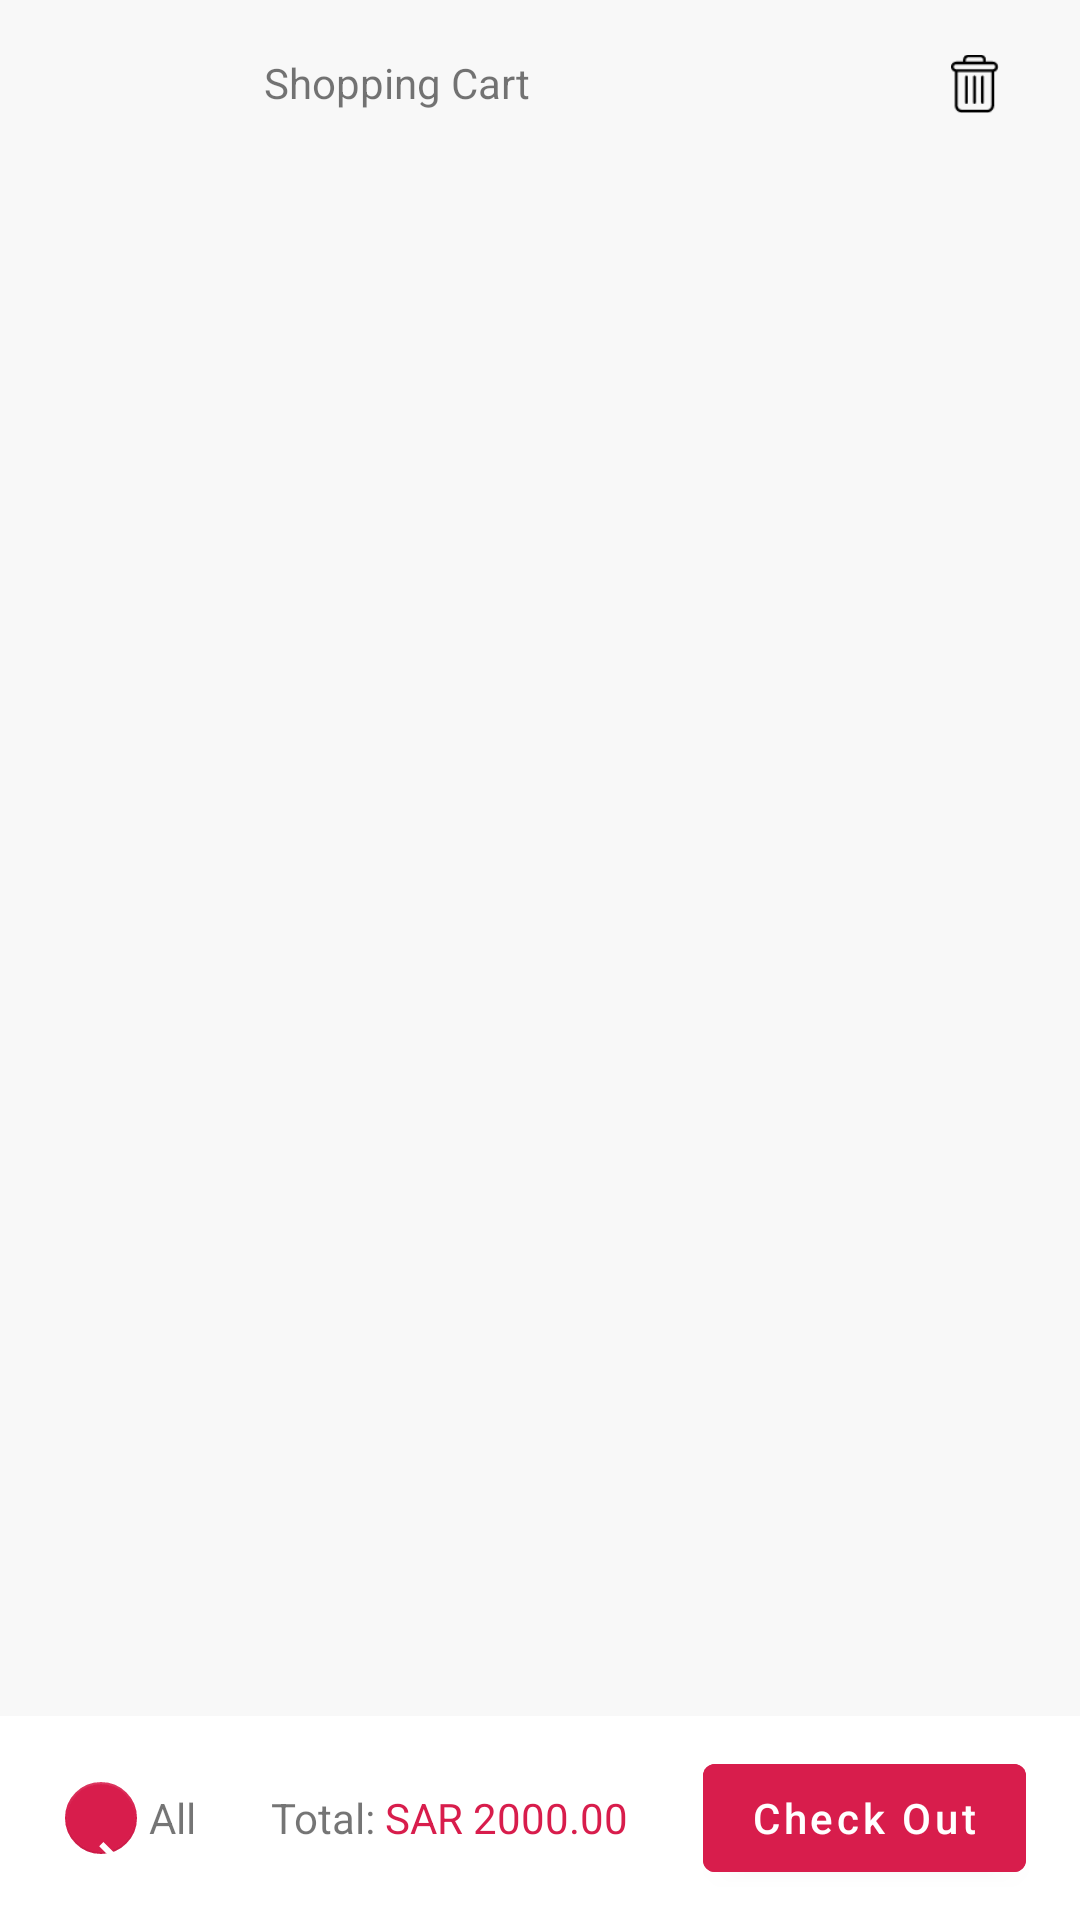

Icons on this 1080px×1920px Android screen, each with the point to tap as (x,y):
delete: (974,84)
